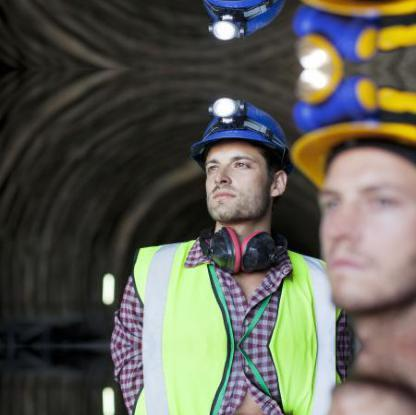helmet: (291, 68, 416, 188), (182, 95, 292, 169)
